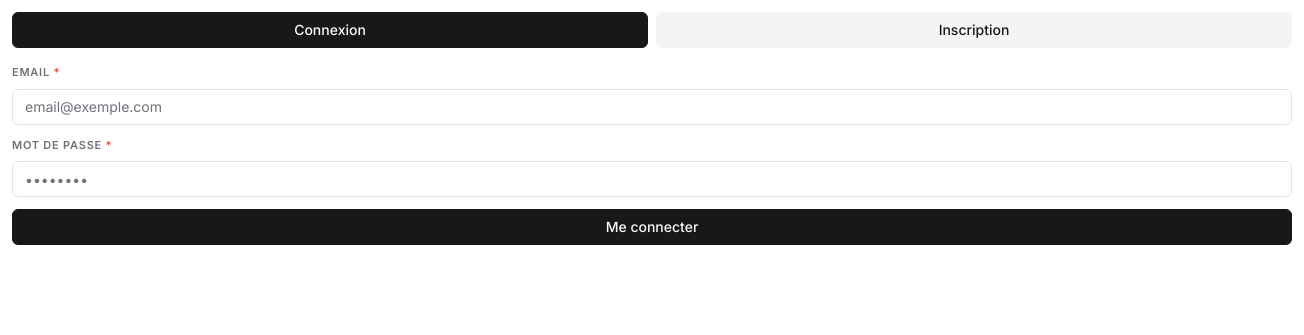
Test: AuthForm › should switch to register mode
Step 1. Click the button "Inscription" → (974, 30), box [656, 12, 1292, 48]
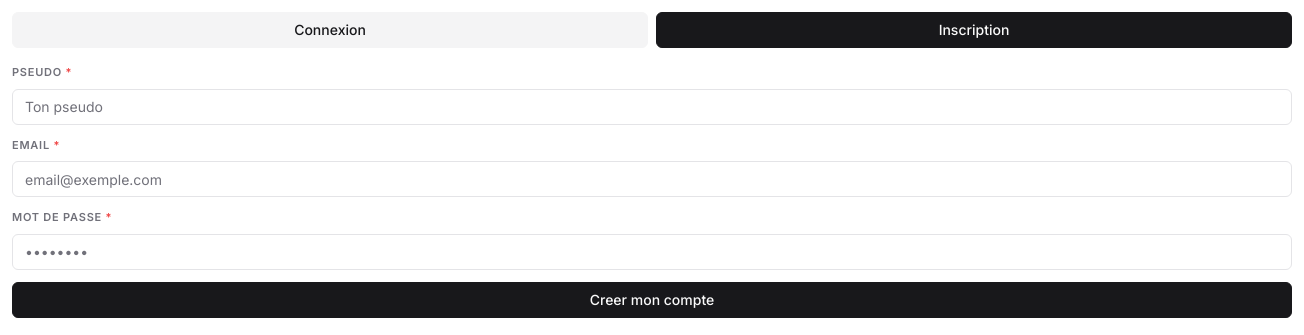
Check: the field with placeholder "Ton pseudo" is shown, box [12, 88, 1292, 124]
Check: the button "Creer mon compte" is shown, box [12, 282, 1292, 318]
